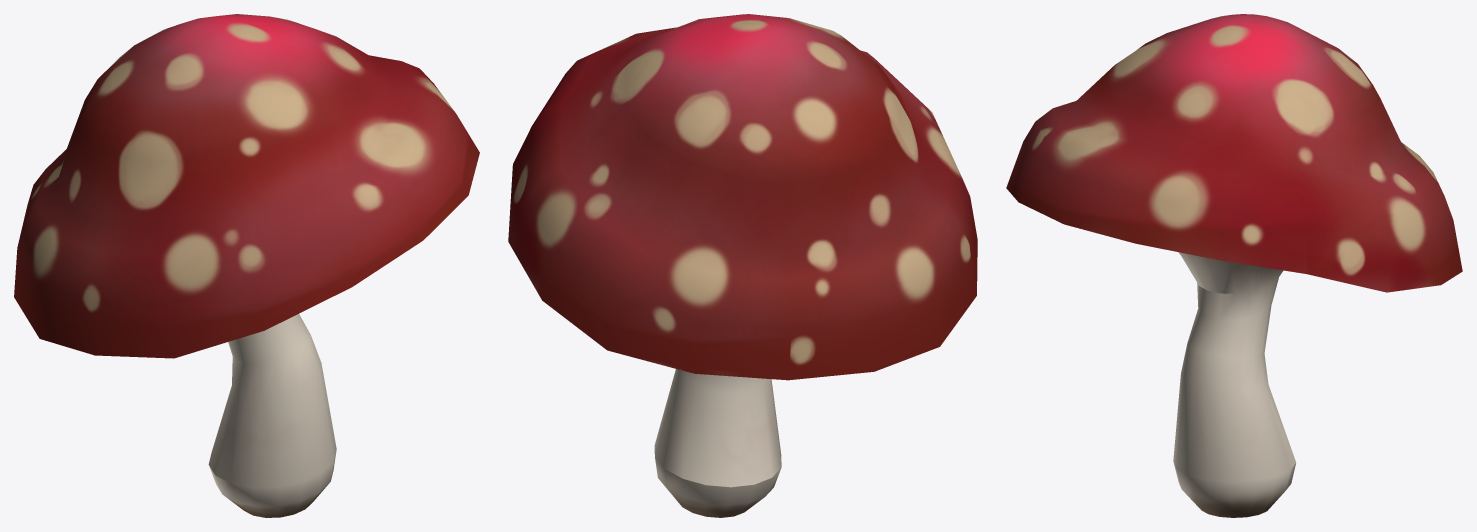
The model's file is kärpässieni.fbx.
The picture shows the model from 3 angles, left to right: view 1: azimuth 30°, elevation 25°; view 2: azimuth 150°, elevation 25°; view 3: azimuth 270°, elevation 25°; orthographic projection. The views are drawn at different scales.
Visible parts, largest first — view 1: kärpässieni; view 2: kärpässieni; view 3: kärpässieni.
Boxes of the visible parts, box(x1,y1,x2,y2) form: kärpässieni: box(14, 14, 479, 517); kärpässieni: box(508, 14, 977, 517); kärpässieni: box(1006, 14, 1462, 517).
Bounding box in the file's own units: 136 × 156 × 140.
